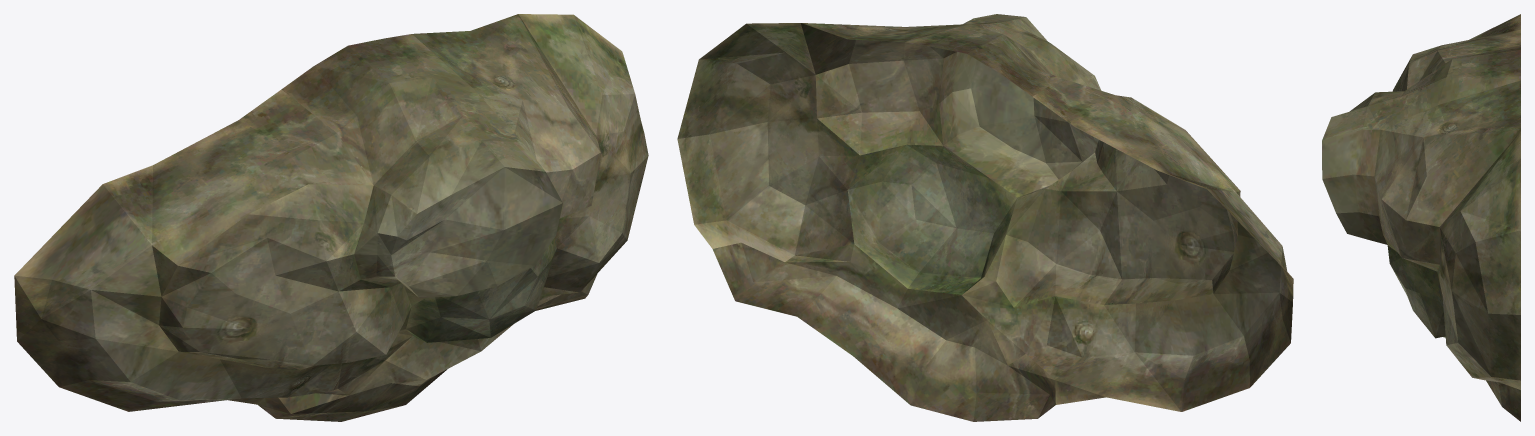
The model's file is juqing_fuben_395_jiaoshi02.obj.
3 views of the same model, side by side, from view 1: azimuth 30°, elevation 25°; view 2: azimuth 150°, elevation 25°; view 3: azimuth 270°, elevation 25° (orthographic). The views are drawn at different scales.
Parts seen in each view (by area): view 1: juqing_fuben_395_jiaoshi02; view 2: juqing_fuben_395_jiaoshi02; view 3: juqing_fuben_395_jiaoshi02.
Boxes of the visible parts, bbox=[...] form: juqing_fuben_395_jiaoshi02: bbox=[14, 14, 648, 421]; juqing_fuben_395_jiaoshi02: bbox=[677, 14, 1293, 421]; juqing_fuben_395_jiaoshi02: bbox=[1322, 14, 1520, 421].
Bounding box in the file's own units: 1445 × 821 × 453.
1 material, 1 textured.
